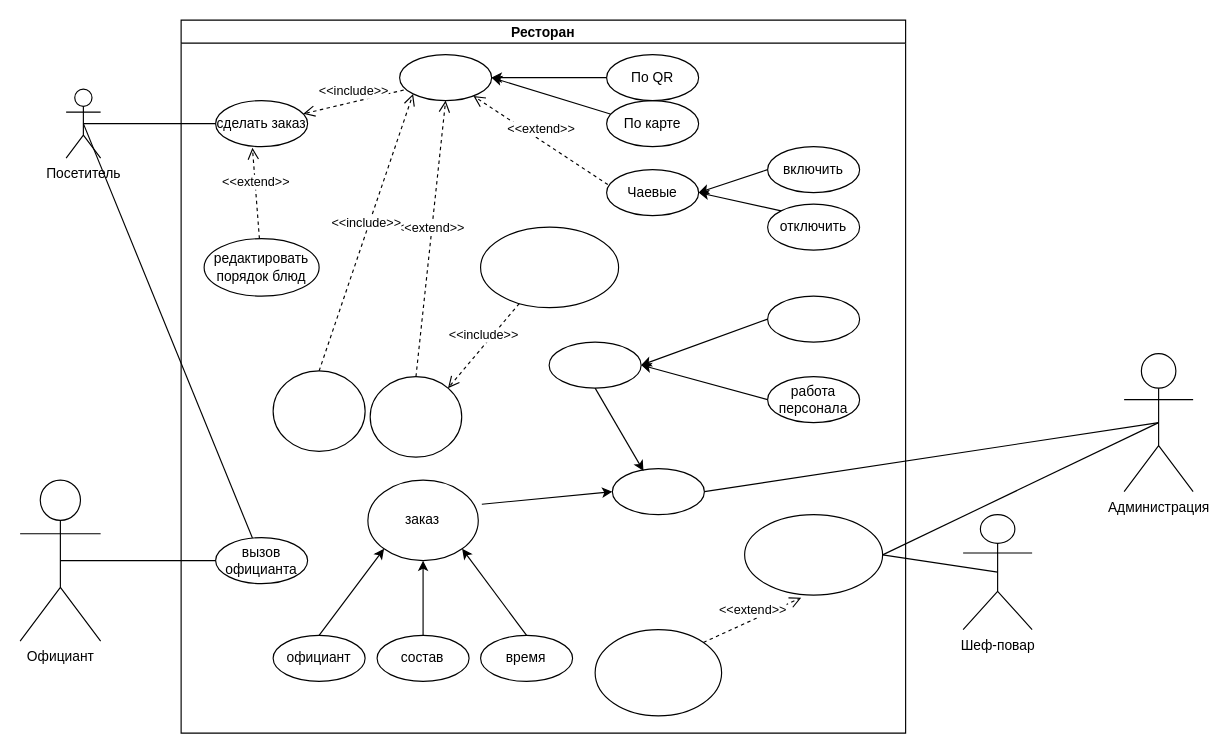
This 1229x753 diagram has some shape labels left out. The shapes that lost their labels are listed below. From the top down, each one's box as (x1, y1, x2, y2) in pixels, then its label:
(398, 53, 492, 101): оплата заказа
(479, 226, 619, 308): выбрать необходимые блюда
(766, 295, 860, 342): качество продуктов
(548, 341, 641, 388): общая оценка
(272, 370, 365, 451): время готовки
(369, 375, 462, 457): раздельная оплата
(611, 467, 704, 515): выгрузка данных
(743, 513, 883, 595): проверка на наличие ингрендиентов
(594, 628, 722, 716): редактировать меню
